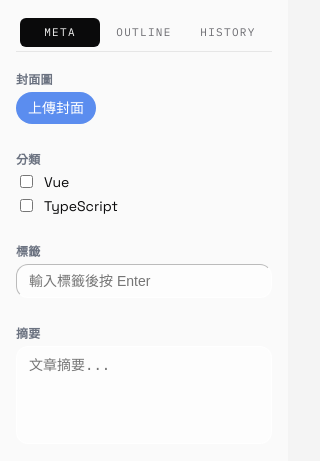
EditorMetaSidebar › History tab › 没有 articleUuid 時切到 History tab 不呼叫 list()，顯示提示文字
The image size is (320, 461).
Click the button "History".
click(228, 32)  # box [188,18,268,47]
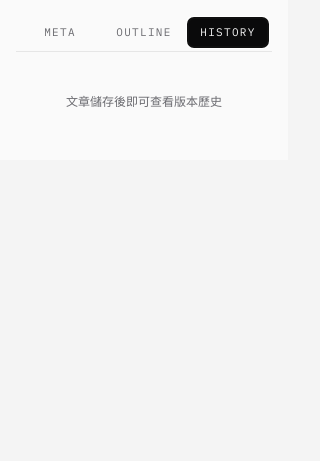
Now the text "文章儲存後即可查看版本歷史" is shown, box [66,94,222,110]
